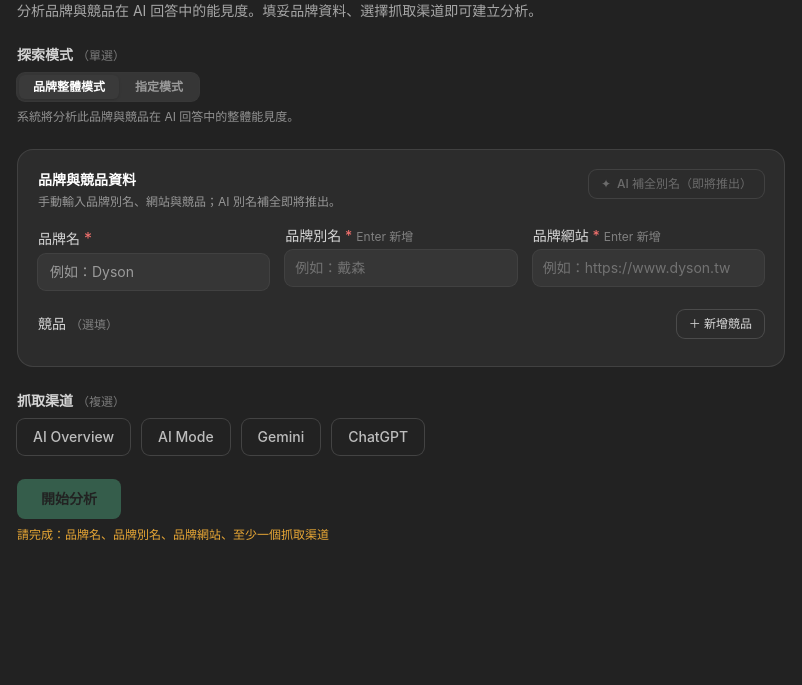
TC-63 · 探索模式 pills + 抓取渠道 複選 + 驗證 → 建立 › hides the 搜尋詞 manager in 品牌整體模式 and shows it in 指定模式
The width and height of the screenshot is (802, 685).
expect the button "開始分析" is shown: met, box [17,479,121,519]
expect the field labelled "搜尋詞" is not shown: met
Click the tab "指定模式" at (159, 87), box [121,75,197,99]
(page scrolled)
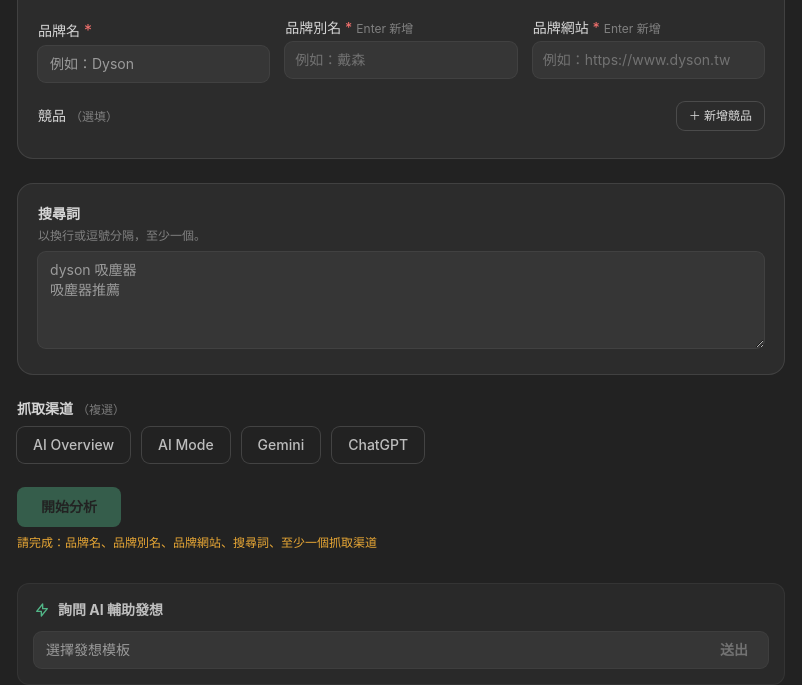
expect the text box labelled "搜尋詞" is shown: met, box [38,252,764,348]
expect the button "送出" is shown: met, box [708,634,760,666]
